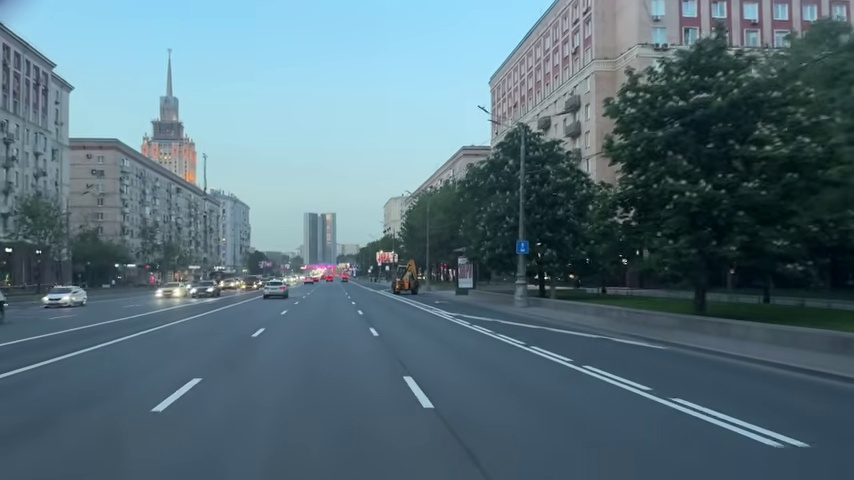apagada: (169, 375, 202, 403)
